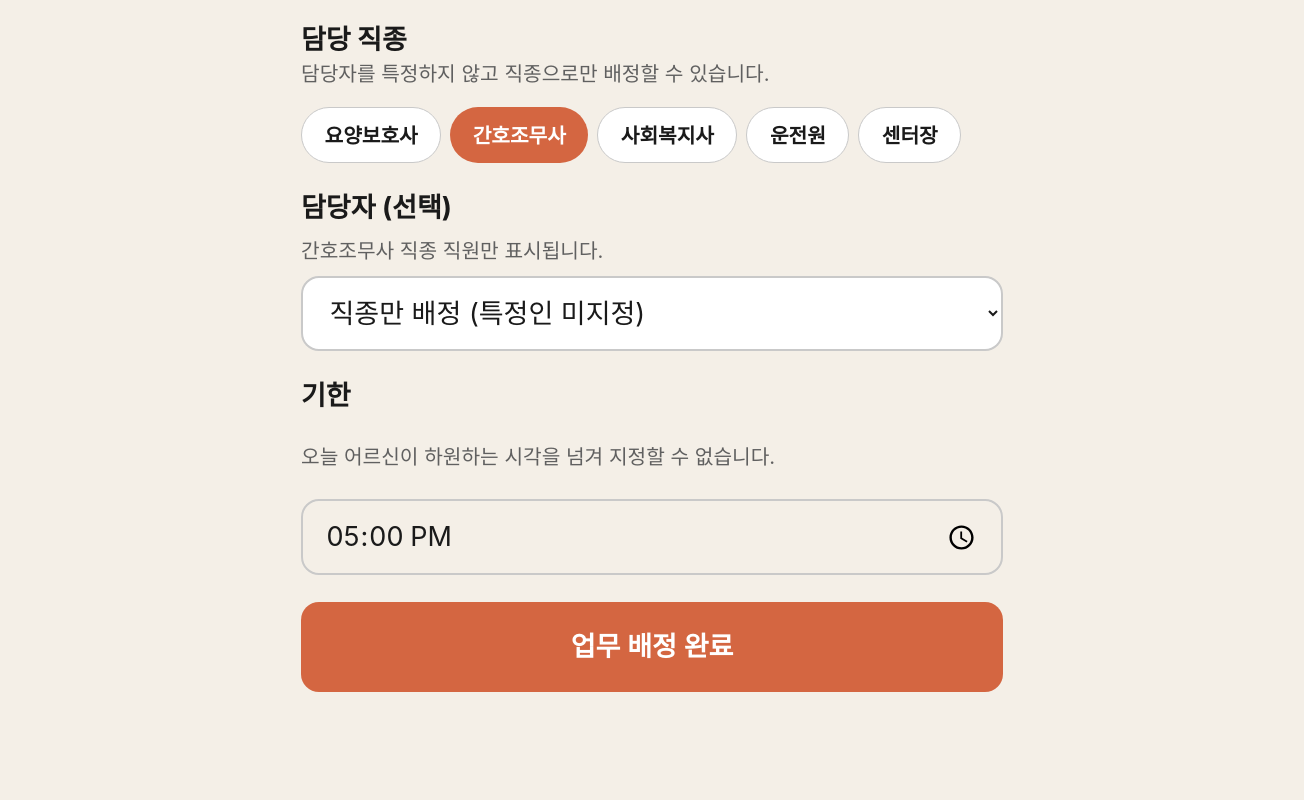
Test case: 후속 업무 배정 (n26 → n27 · n28 · n29 · n30) › 담당자를 특정하지 않고 직종으로만 배정할 수 있다
The image size is (1304, 800).
(page scrolled)
Step 1. Click the button "업무 배정 완료" → {"x": 652, "y": 647}, box x1=301 y1=602 x2=1003 y2=692
(page scrolled)
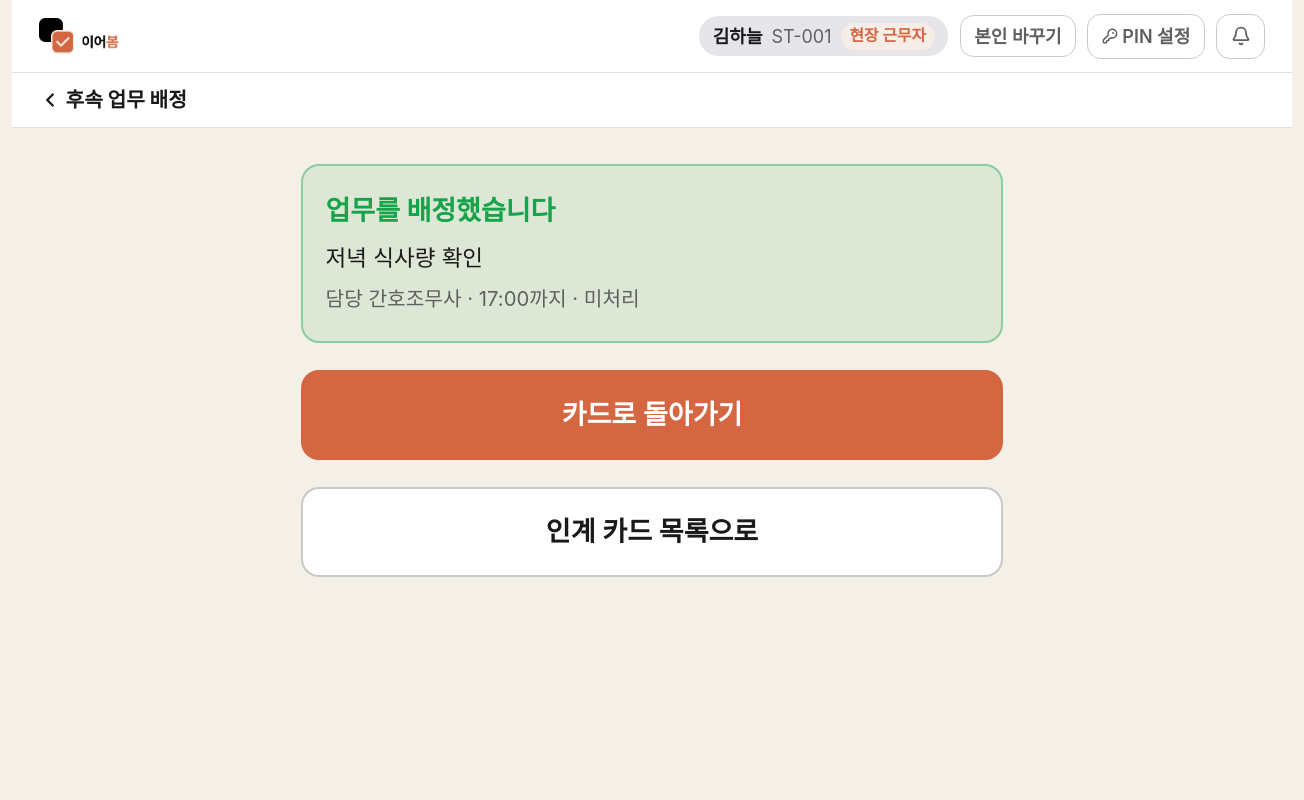
Check: the heading "업무를 배정했습니다" is shown, box x1=326 y1=194 x2=556 y2=227
Check: the text "담당 간호조무사 · 17:00까지 · 미처리" is shown, box x1=326 y1=286 x2=640 y2=311
